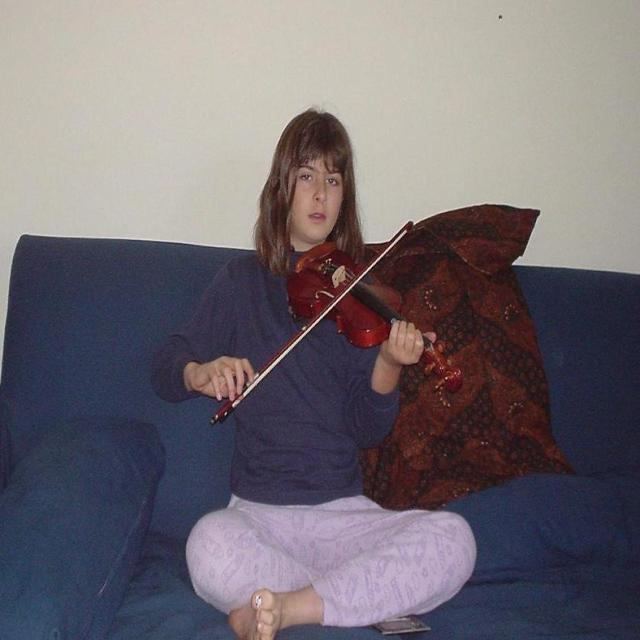violin: (286, 238, 468, 398)
